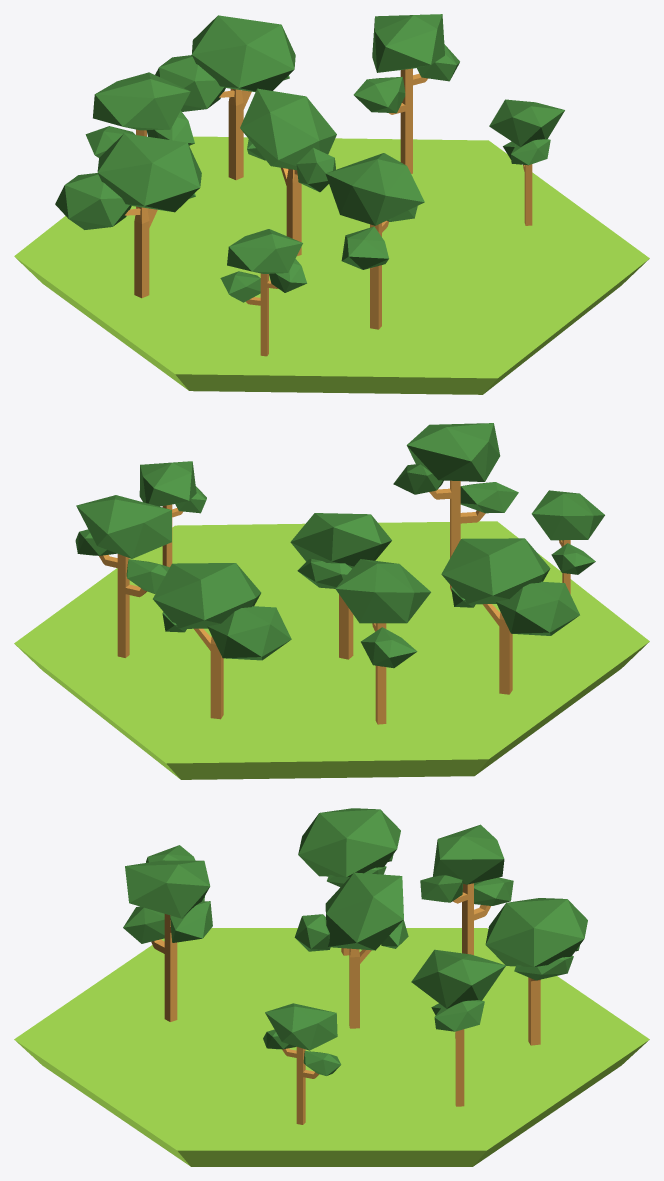
The model's file is G_F_leaf_3.fbx.
3 views of the same model, one above another, from view 1: azimuth 30°, elevation 25°; view 2: azimuth 150°, elevation 25°; view 3: azimuth 270°, elevation 25° (orthographic). The views are drawn at different scales.
Parts seen in each view (by area): view 1: G_F_leaf.002; view 2: G_F_leaf.002; view 3: G_F_leaf.002.
Boxes of the visible parts, <box> form: G_F_leaf.002: <box>14,14,649,394</box>; G_F_leaf.002: <box>14,423,649,779</box>; G_F_leaf.002: <box>14,808,649,1166</box>.
Bounding box in the file's own units: 3288 × 1226 × 3822.
